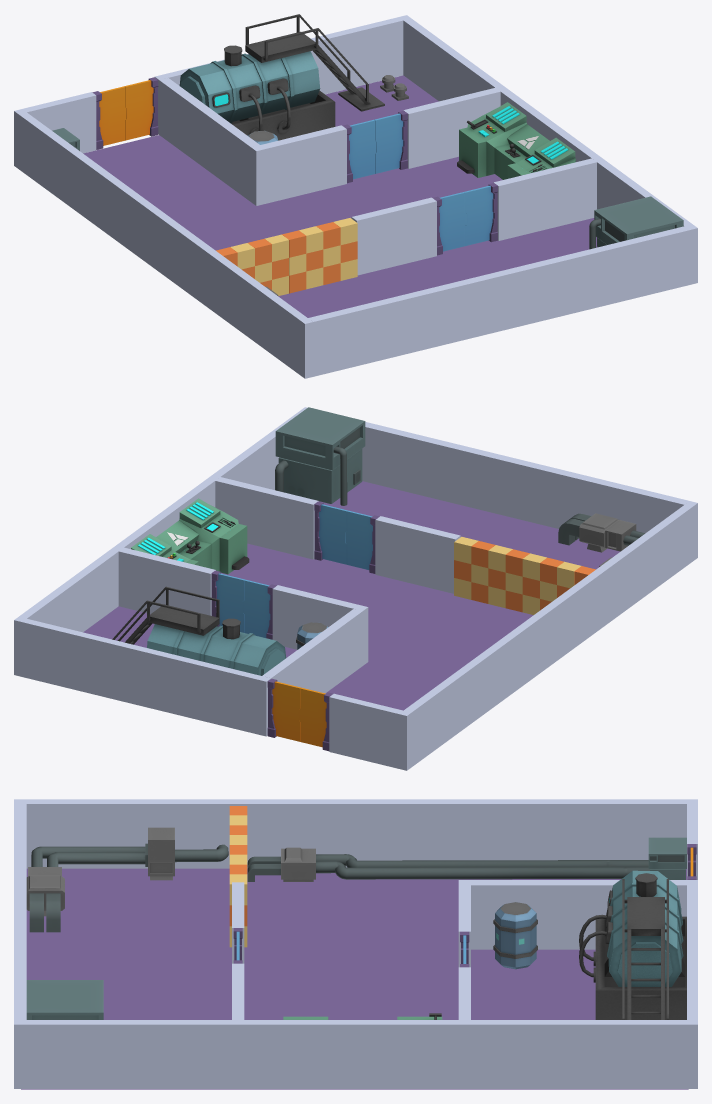
The model's file is maps_08.fbx.
The picture shows the model from 3 angles, top to bottom: view 1: azimuth 30°, elevation 25°; view 2: azimuth 150°, elevation 25°; view 3: azimuth 270°, elevation 25°; orthographic projection. The views are drawn at different scales.
Visible parts, largest first — view 1: polySurface144, polySurface195, polySurface196, tankwater_geo, polySurface191, polySurface194, polySurface259, polySurface198, table_01_geo, polySurface193, polySurface199, polySurface192 (+11 smaller); view 2: polySurface144, polySurface196, polySurface195, polySurface193, polySurface191, generatorStation_05_geo, tankwater_geo, polySurface194, table_01_geo, polySurface199, polySurface192, polySurface259 (+11 smaller); view 3: polySurface144, polySurface191, polySurface196, tankwater_geo, generatorStation_04_geo, polySurface259, generatorStation_03_geo, generatorStation_05_geo, polySurface195, tank02__geo, polySurface193, polySurface198 (+4 smaller).
Boxes of the visible parts, box(x1,y1,x2,y2) form: polySurface144: box(83, 75, 597, 317); polySurface195: box(308, 226, 690, 376); polySurface196: box(14, 109, 313, 378); tankwater_geo: box(179, 14, 384, 140); polySurface191: box(399, 15, 697, 284); polySurface194: box(493, 158, 596, 240); polySurface259: box(159, 78, 259, 201); polySurface198: box(251, 125, 346, 205); table_01_geo: box(457, 102, 575, 179); polySurface193: box(154, 17, 403, 134); polySurface199: box(351, 197, 436, 275); polySurface192: box(403, 88, 500, 168); polySurface144: box(83, 481, 619, 710); polySurface196: box(399, 501, 697, 770); polySurface195: box(362, 422, 689, 533); polySurface193: box(22, 619, 270, 736); polySurface191: box(14, 407, 307, 676); generatorStation_05_geo: box(275, 407, 365, 505); tankwater_geo: box(112, 586, 286, 675); polySurface194: box(215, 477, 318, 559); table_01_geo: box(131, 498, 249, 574); polySurface199: box(375, 516, 460, 593); polySurface192: box(118, 547, 215, 615); polySurface259: box(262, 609, 362, 693); polySurface144: box(21, 868, 688, 1089); polySurface191: box(14, 1020, 697, 1088); polySurface196: box(14, 799, 697, 868); tankwater_geo: box(579, 870, 686, 1019); generatorStation_04_geo: box(247, 837, 686, 881); polySurface259: box(471, 880, 686, 949); generatorStation_03_geo: box(26, 827, 228, 932); generatorStation_05_geo: box(26, 980, 103, 1019); polySurface195: box(14, 804, 26, 1020); tank02__geo: box(493, 902, 537, 969); polySurface193: box(687, 880, 697, 1019); polySurface198: box(458, 880, 470, 967).
Bounding box in the file's own units: 66.51 × 15.59 × 85.35.
8 materials, 8 textured.
